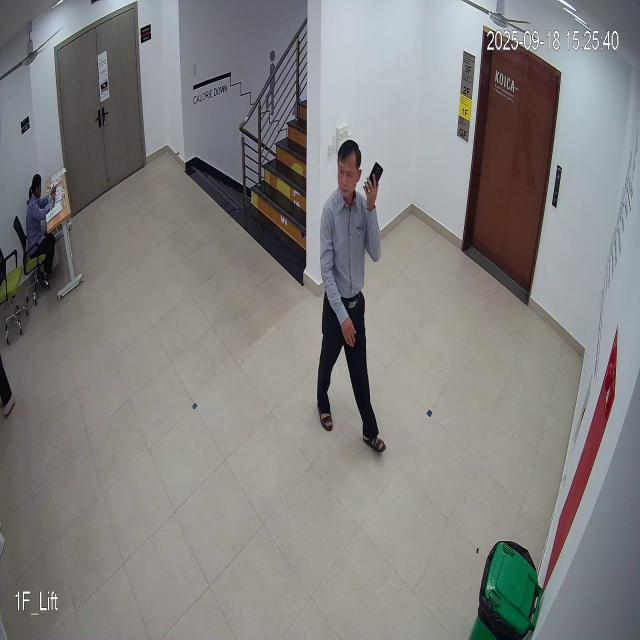face: (334, 136, 366, 202)
